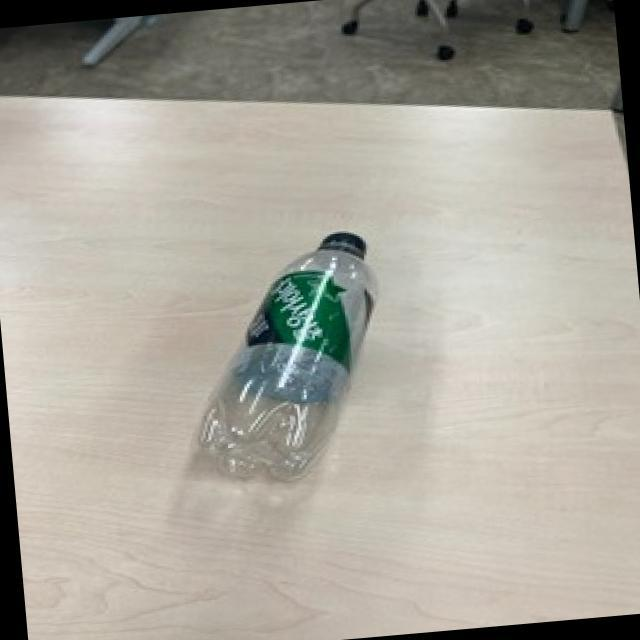good: (174, 219, 394, 493)
